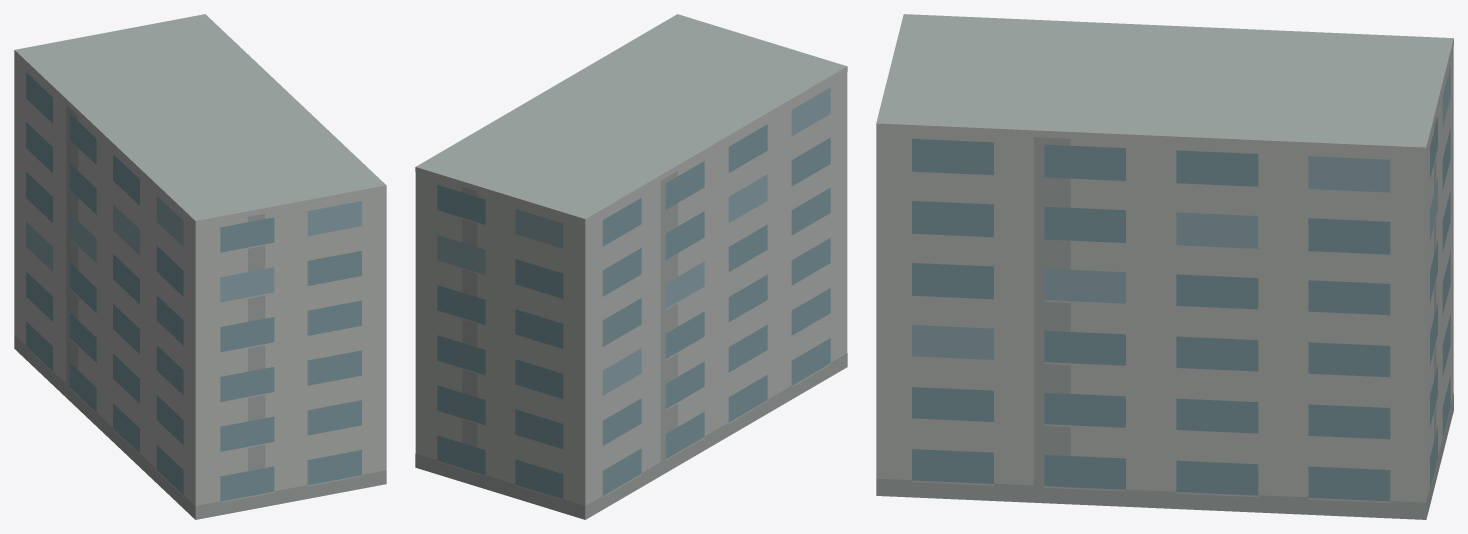
The model's file is survey-upis-32564339.glb.
The picture shows the model from 3 angles, left to right: view 1: azimuth 30°, elevation 25°; view 2: azimuth 150°, elevation 25°; view 3: azimuth 270°, elevation 25°; orthographic projection. The views are drawn at different scales.
Visible parts, largest first — view 1: survey-upis-32564339.tmp; view 2: survey-upis-32564339.tmp; view 3: survey-upis-32564339.tmp.
Boxes of the visible parts, <box> form: survey-upis-32564339.tmp: <box>14,14,386,519</box>; survey-upis-32564339.tmp: <box>415,14,847,519</box>; survey-upis-32564339.tmp: <box>876,14,1453,519</box>.
Bounding box in the file's own units: 10.24 × 13.3 × 18.71.
